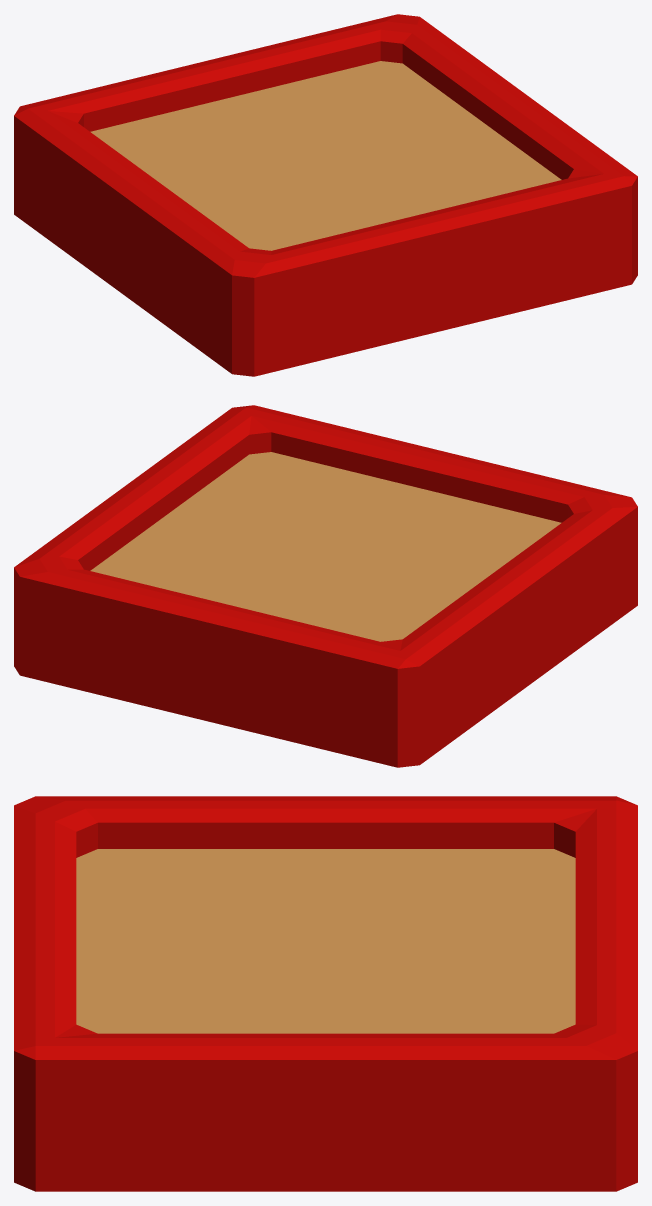
File: bowl.fbx
3 views of the same model, one above another, from view 1: azimuth 30°, elevation 25°; view 2: azimuth 150°, elevation 25°; view 3: azimuth 270°, elevation 25° (orthographic). The views are drawn at different scales.
Parts seen in each view (by area): view 1: Bowl, Contents; view 2: Bowl, Contents; view 3: Bowl, Contents.
Boxes of the visible parts, x1,y1,x2,y2 form: Bowl: (14, 14, 637, 376); Contents: (90, 61, 561, 250); Bowl: (14, 405, 637, 767); Contents: (90, 452, 561, 641); Bowl: (14, 796, 637, 1191); Contents: (76, 849, 575, 1033).
Size of the model in its own units: 200 by 50 by 200.
